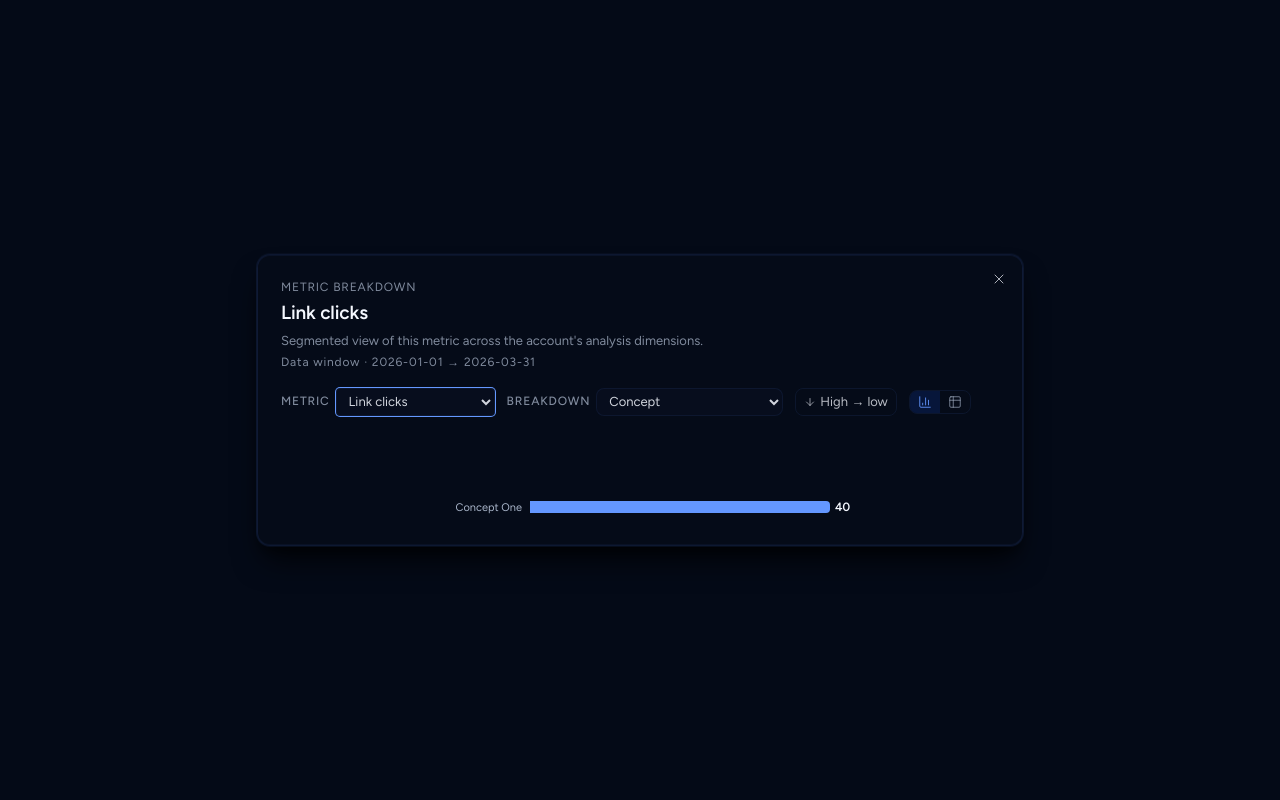
Scenario: KpiDrilldownModal · account scope › conversion-basis dimension works for link clicks
This screenshot has width=1280, height=800.
Select "Device (conversion basis)" in the dropdown labelled "Breakdown": [690, 401] box [596,387,783,415]
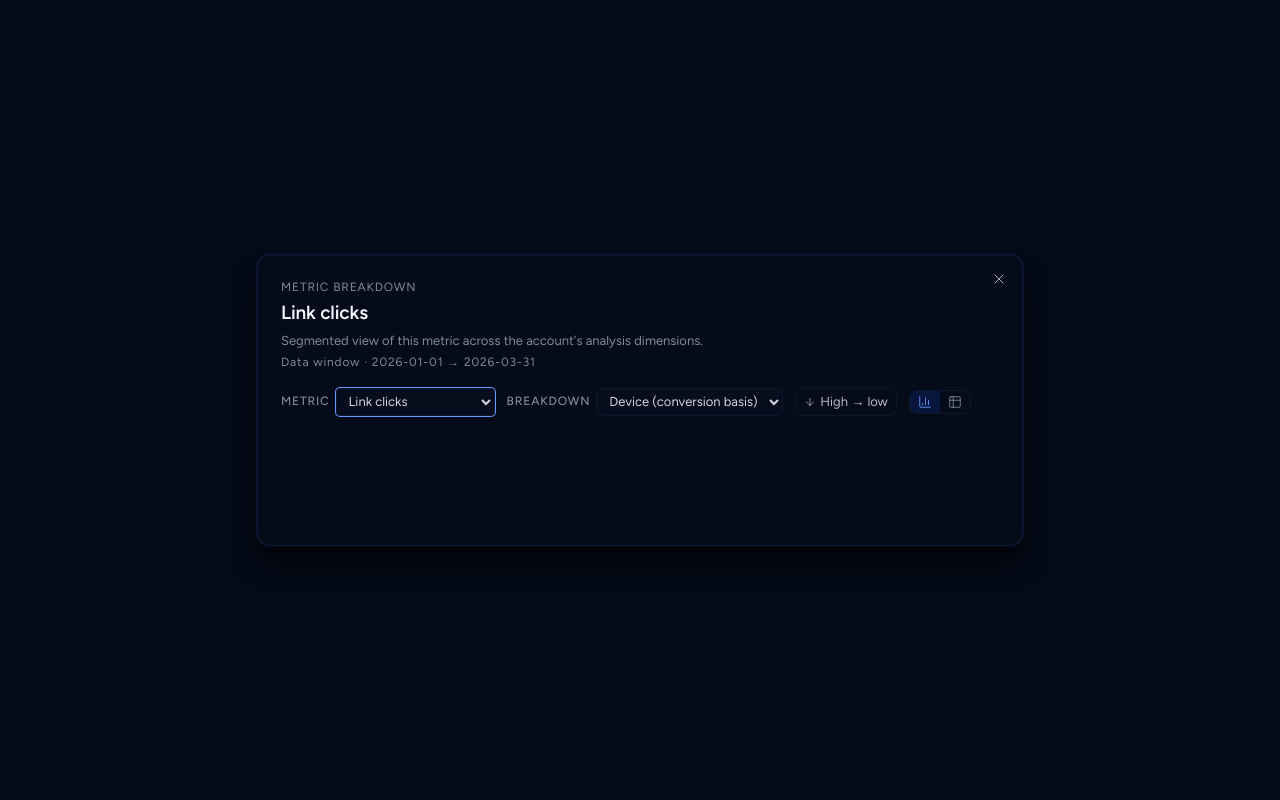
Click the button named "Table view": [955, 401] box [940,390,970,412]
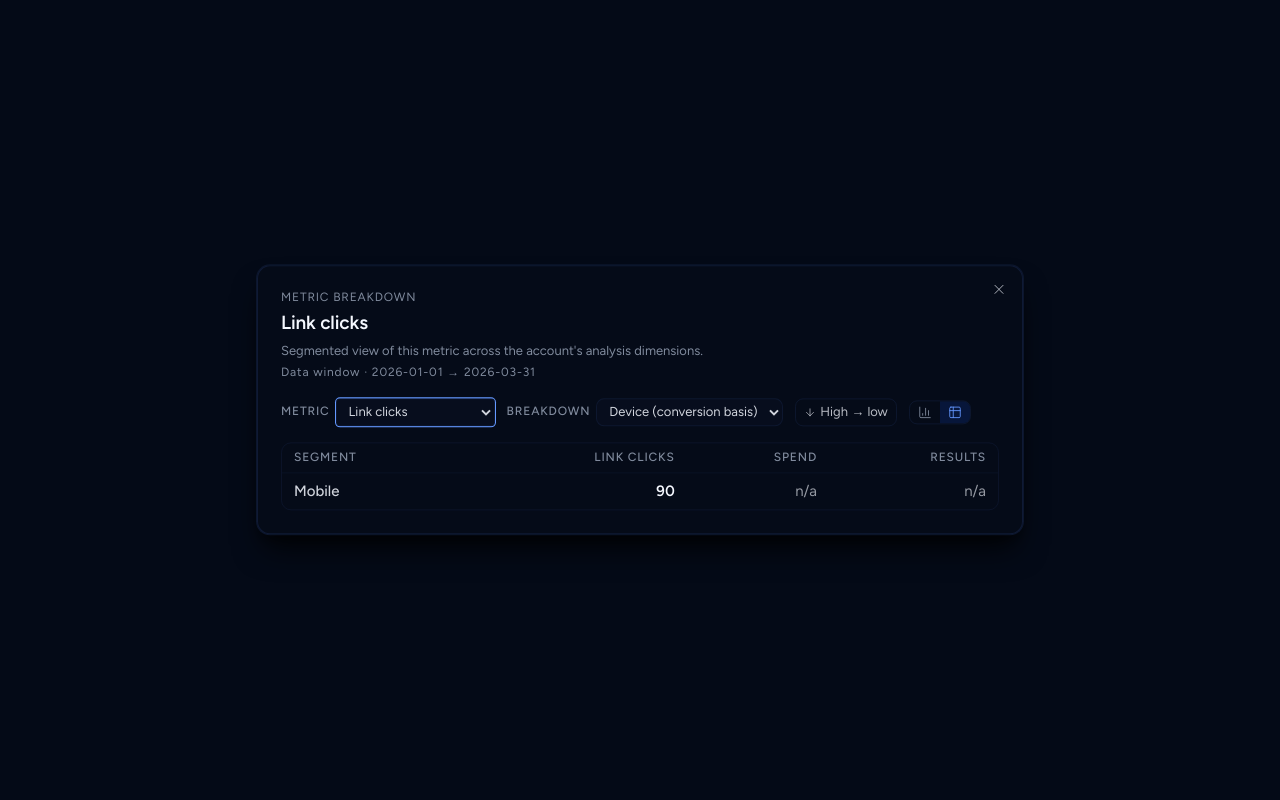
Now the element with test id "kpi-drilldown-table" shows "Mobile", box [294,483,340,501]
